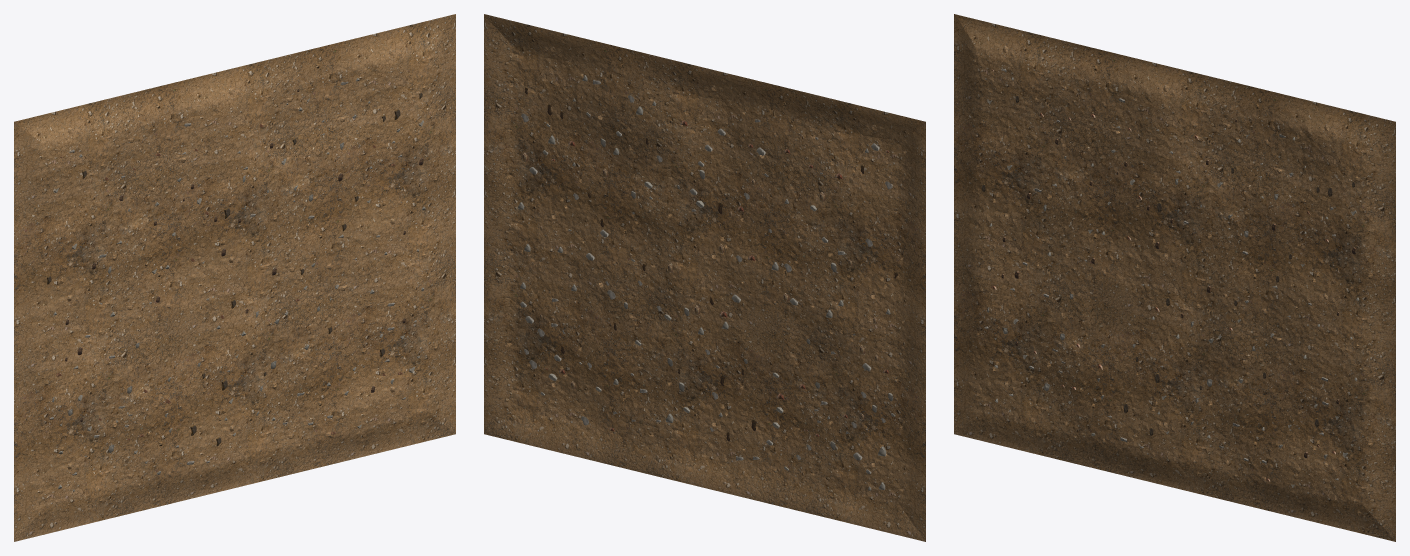
File: terrain.glb
3 renders of one model, left to right at view 1: azimuth 30°, elevation 25°; view 2: azimuth 150°, elevation 25°; view 3: azimuth 330°, elevation 25°, orthographic.
Visible parts, largest first — view 1: terrain; view 2: terrain; view 3: terrain.
Boxes of the visible parts, x1,y1,x2,y2 form: terrain: (14,14,455,541); terrain: (484,14,925,541); terrain: (954,14,1395,541).
Size of what is drawn, in the model's own units: 11 by 10 by 0.3425.
Materials: 10 (10 with a texture image).
